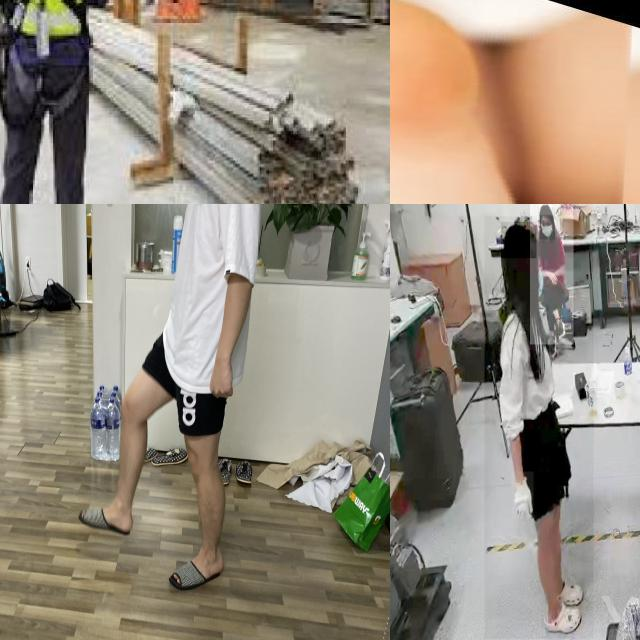Barefoots: (390, 0, 640, 204)
Harness: (1, 0, 95, 127)
Sandals: (168, 544, 226, 591), (77, 493, 137, 535)
face_mask: (539, 208, 555, 240)
hand_glove: (512, 472, 534, 520)
hand_noglove: (547, 269, 559, 285)
head_nohelmet: (501, 222, 537, 259), (539, 204, 552, 215)
person: (484, 216, 594, 640), (530, 204, 573, 344)
